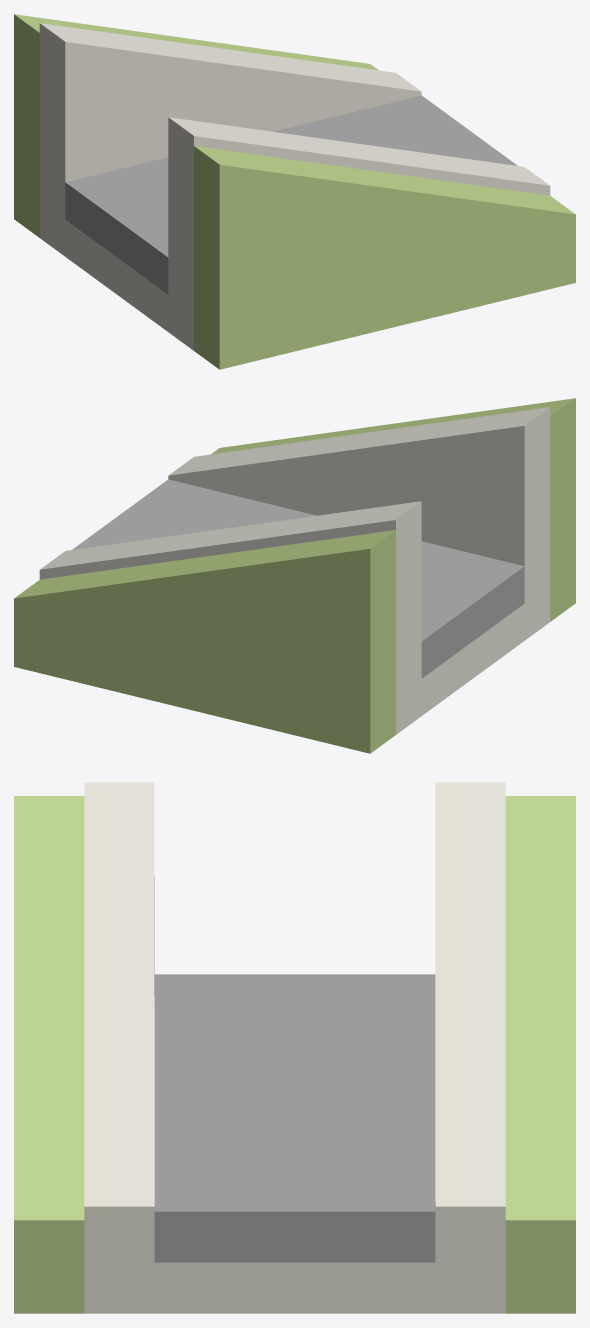
The model's file is roadTile_231.gltf.
3 views of the same model, one above another, from view 1: azimuth 30°, elevation 25°; view 2: azimuth 150°, elevation 25°; view 3: azimuth 270°, elevation 25° (orthographic). The views are drawn at different scales.
Visible parts, largest first — view 1: roadTile_231; view 2: roadTile_231; view 3: roadTile_231.
Part boxes in pixels (<box>): roadTile_231: <box>14,14,575,369</box>; roadTile_231: <box>14,398,575,753</box>; roadTile_231: <box>14,782,575,1313</box>.
Size of the model in its own units: 3 by 1.73 by 3.
